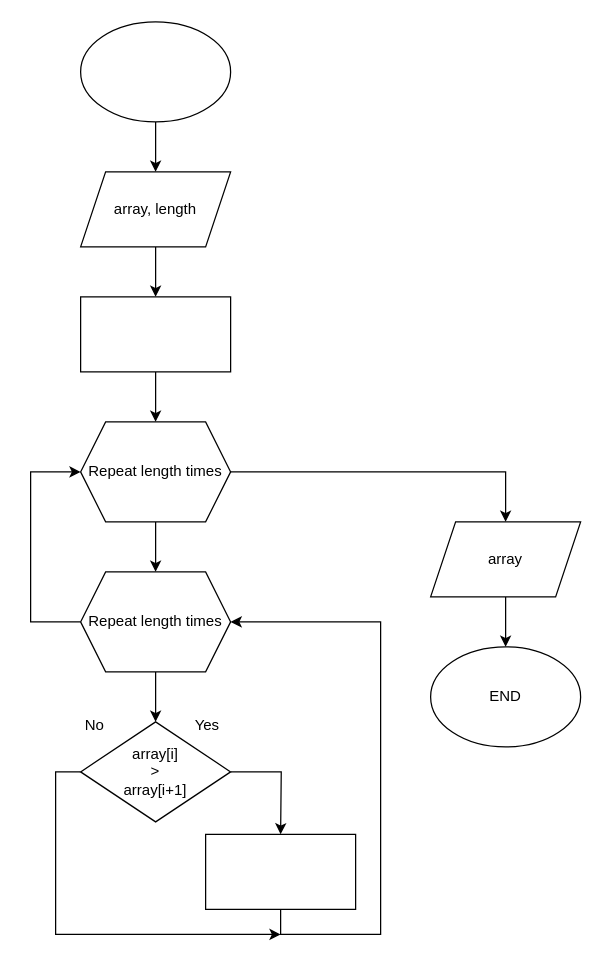
Image size: 603x966. Some labels were removed from this diagram. Each missing label, with the centre of its shape:
"Bubble sort" goes at point (155, 71).
"int i = 0 int temp" goes at point (155, 334).
"temp = array[i+1] array[i+1] = array[i] array[i] = temp i = i+1" goes at point (280, 871).
